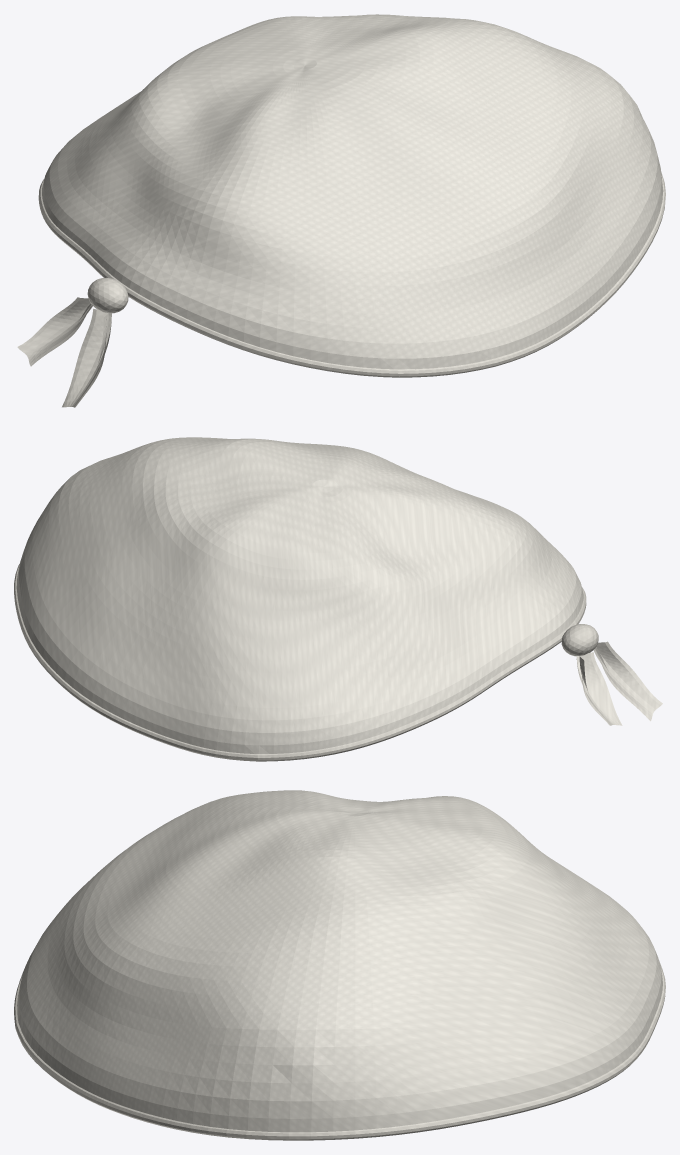
File: side_servant_headcloth.glb
The picture shows the model from 3 angles, top to bottom: view 1: azimuth 30°, elevation 25°; view 2: azimuth 150°, elevation 25°; view 3: azimuth 270°, elevation 25°; orthographic projection. The views are drawn at different scales.
Visible parts, largest first — view 1: woven_cloth, folded_edge, wrap_ties; view 2: woven_cloth, folded_edge, wrap_ties; view 3: woven_cloth, folded_edge.
Boxes of the visible parts, left/top/right/bottom form: woven_cloth: left=42, top=14, right=663, bottom=369; folded_edge: left=38, top=172, right=665, bottom=377; wrap_ties: left=17, top=297, right=111, bottom=407; woven_cloth: left=16, top=437, right=583, bottom=753; folded_edge: left=14, top=563, right=598, bottom=761; wrap_ties: left=576, top=641, right=662, bottom=725; woven_cloth: left=17, top=790, right=662, bottom=1132; folded_edge: left=14, top=962, right=665, bottom=1140.
Size of the model in its own units: 14.82 by 5.42 by 12.67.
4 materials, 4 textured.
